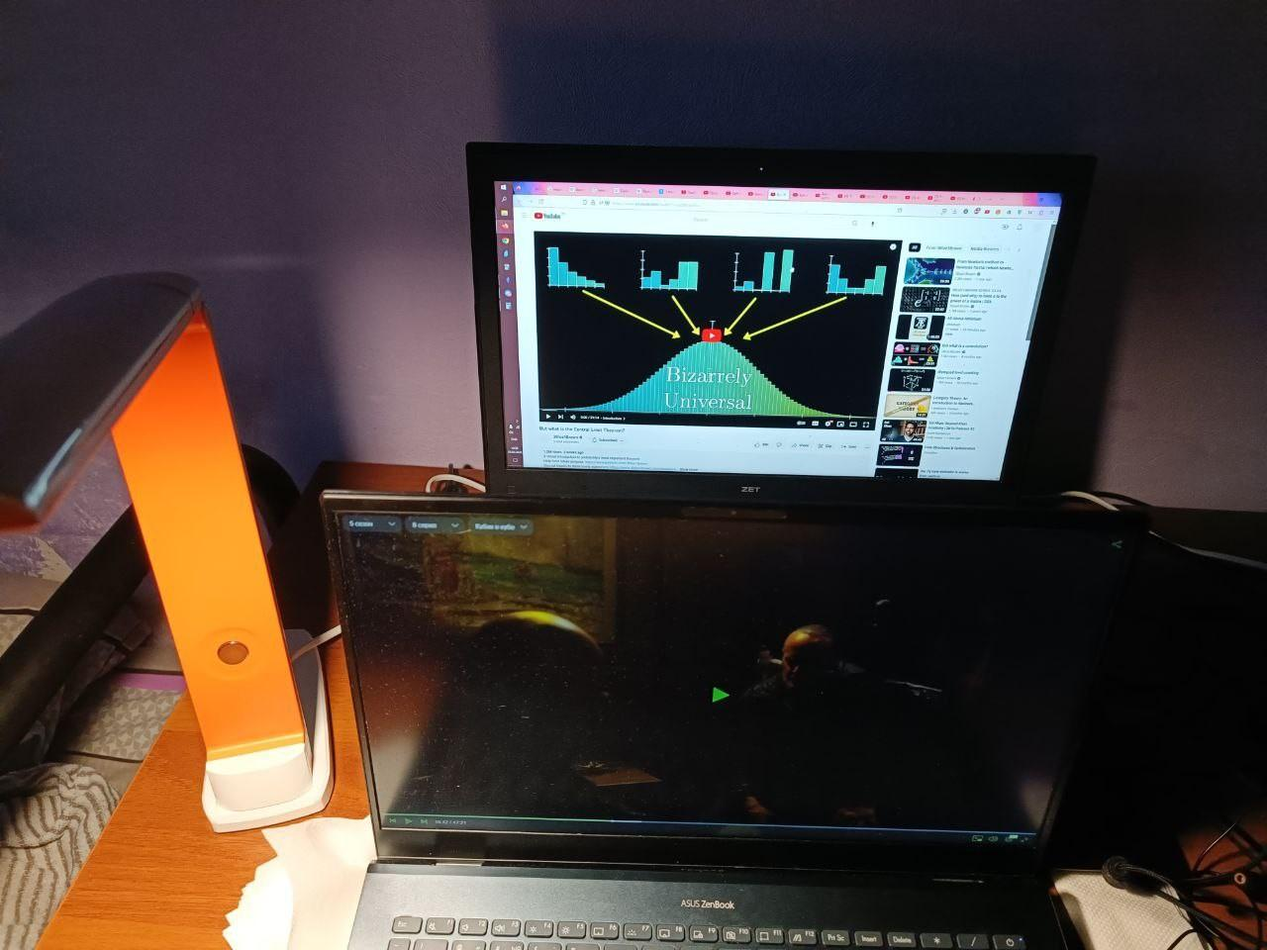monitor: (313, 478, 1104, 909), (459, 129, 1087, 538)
